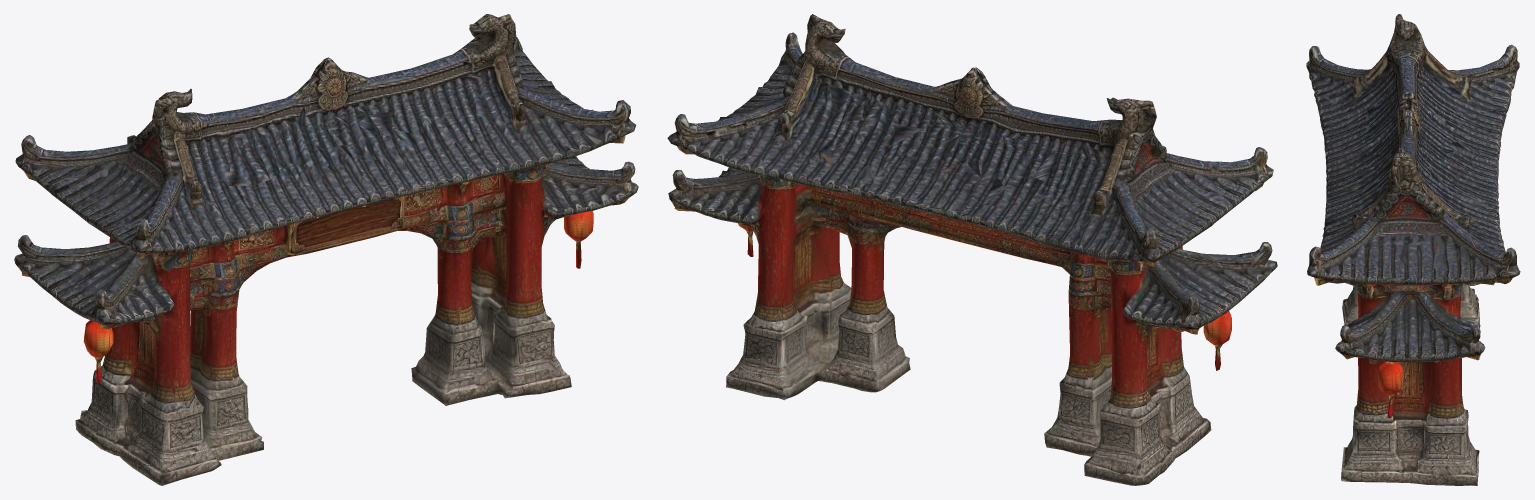
The model's file is portao.glb.
3 views of the same model, side by side, from view 1: azimuth 30°, elevation 25°; view 2: azimuth 150°, elevation 25°; view 3: azimuth 270°, elevation 25° (orthographic). The views are drawn at different scales.
Visible parts, largest first — view 1: portao; view 2: portao; view 3: portao.
Part boxes in pixels (x1=…): portao: x1=14, y1=14, x2=638, y2=485; portao: x1=667, y1=14, x2=1277, y2=485; portao: x1=1306, y1=14, x2=1520, y2=485.
Bounding box in the file's own units: 9.54 × 6 × 3.76.
Materials: 1 (1 with a texture image).
